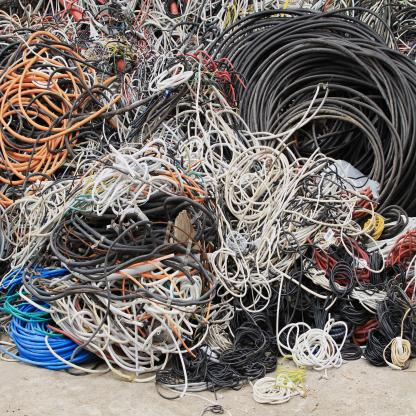wires: (1, 1, 414, 409)
